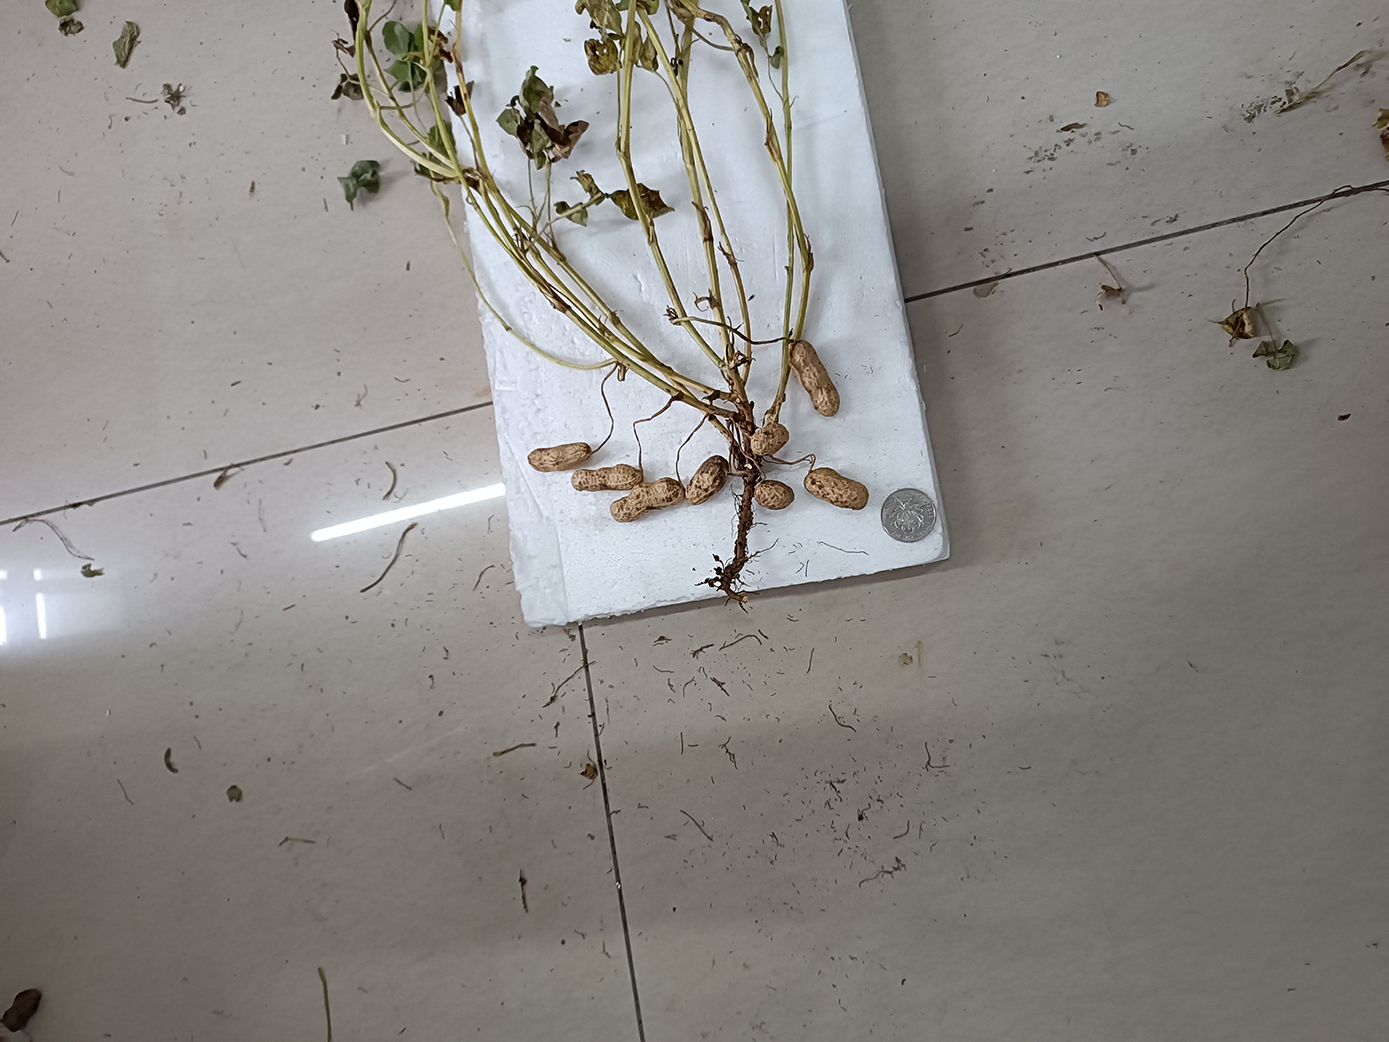h: (789, 341, 840, 417), (611, 478, 685, 522), (803, 467, 869, 511), (686, 456, 732, 505), (572, 463, 645, 493), (526, 441, 591, 472), (750, 422, 790, 455), (753, 479, 795, 509)
